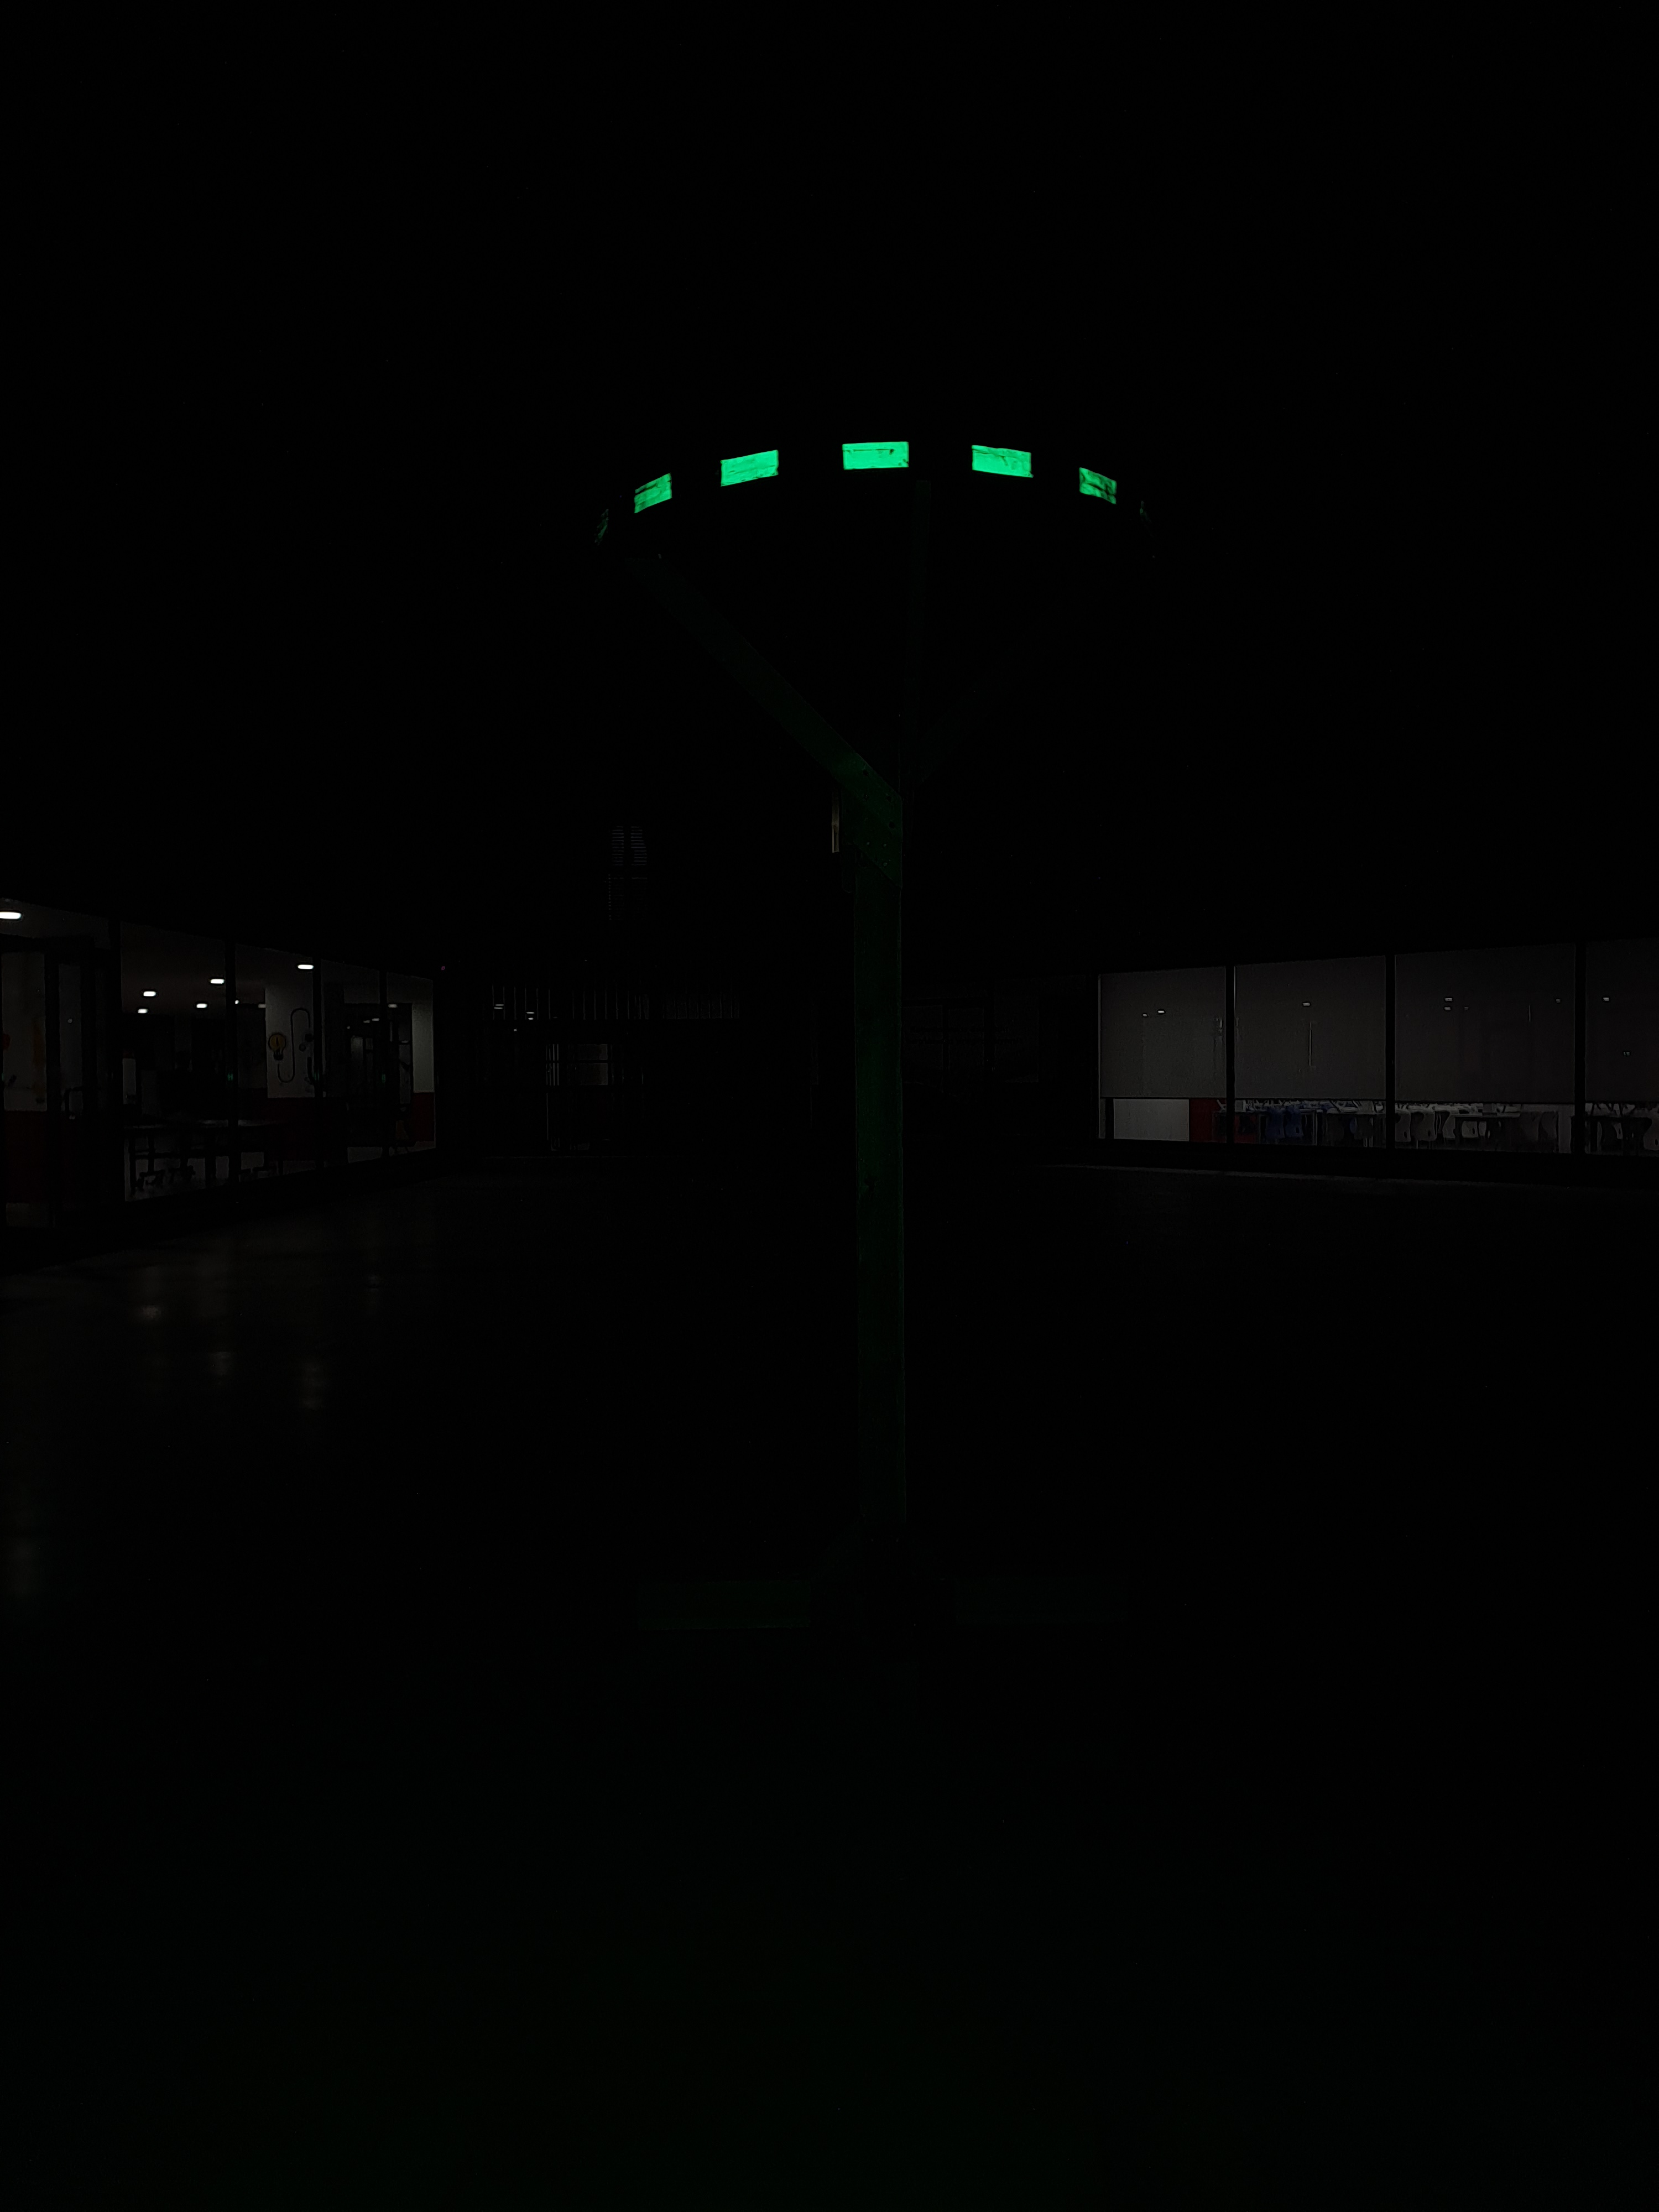hoop: (620, 425, 1124, 521)
